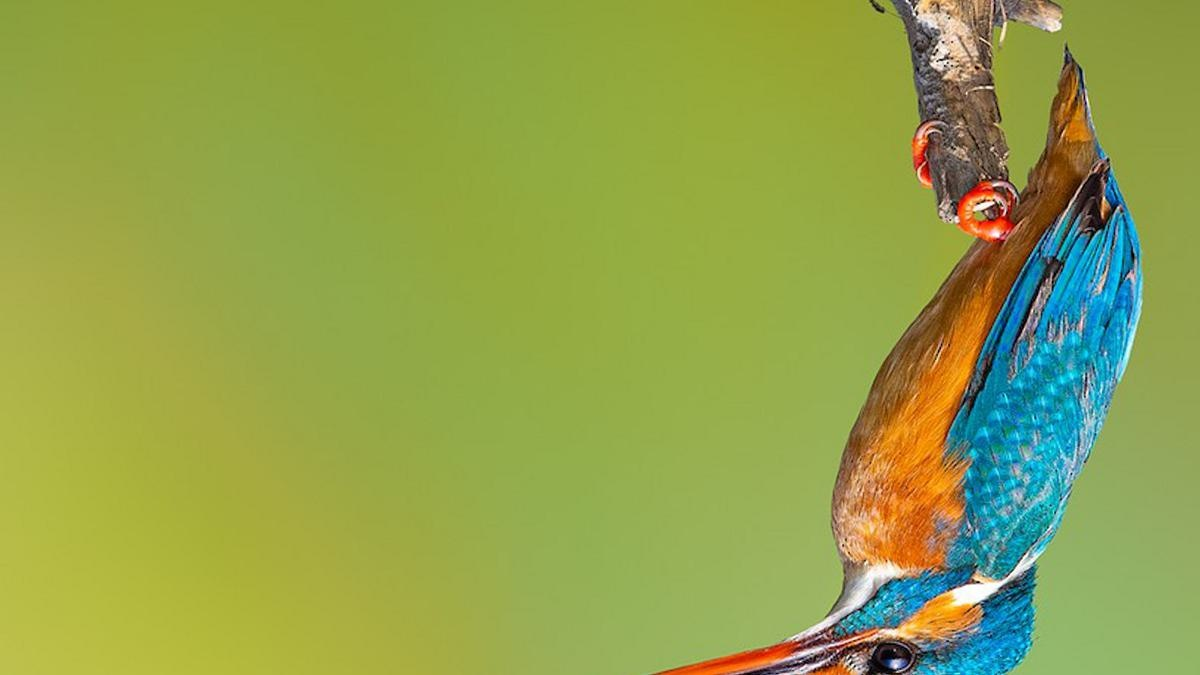kingfisher: (656, 55, 1150, 675)
